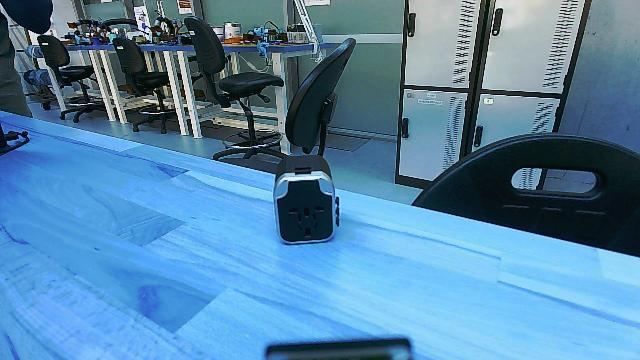adapter: (267, 152, 343, 252)
